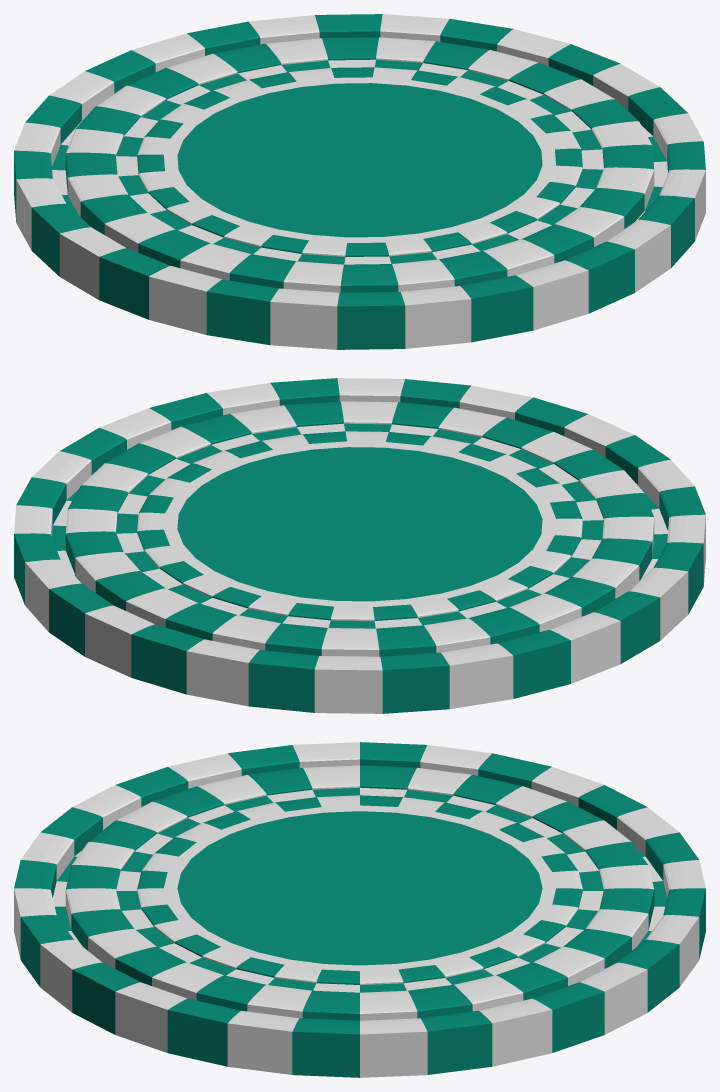
File: letitride3.glb
The picture shows the model from 3 angles, top to bottom: view 1: azimuth 30°, elevation 25°; view 2: azimuth 150°, elevation 25°; view 3: azimuth 270°, elevation 25°; orthographic projection.
Visible parts, largest first — view 1: Cylinder; view 2: Cylinder; view 3: Cylinder.
Boxes of the visible parts, left/top/right/bottom form: Cylinder: left=14, top=14, right=705, bottom=349; Cylinder: left=14, top=378, right=705, bottom=713; Cylinder: left=14, top=742, right=705, bottom=1077.
Size of the model in its own units: 2 by 0.1382 by 2.
